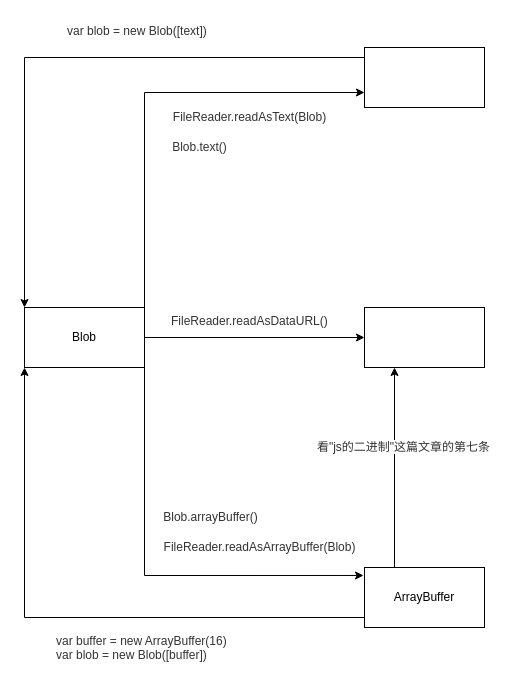
The diagram is 516 pixels wide and 684 high, and some of its shapes have lost their labels. The shapes that lost their labels are listed below. From the top down, each one's box as (x1, y1, x2, y2) in pixels, then its label:
(364, 46, 484, 108): 字符串
(364, 306, 484, 368): Base64
